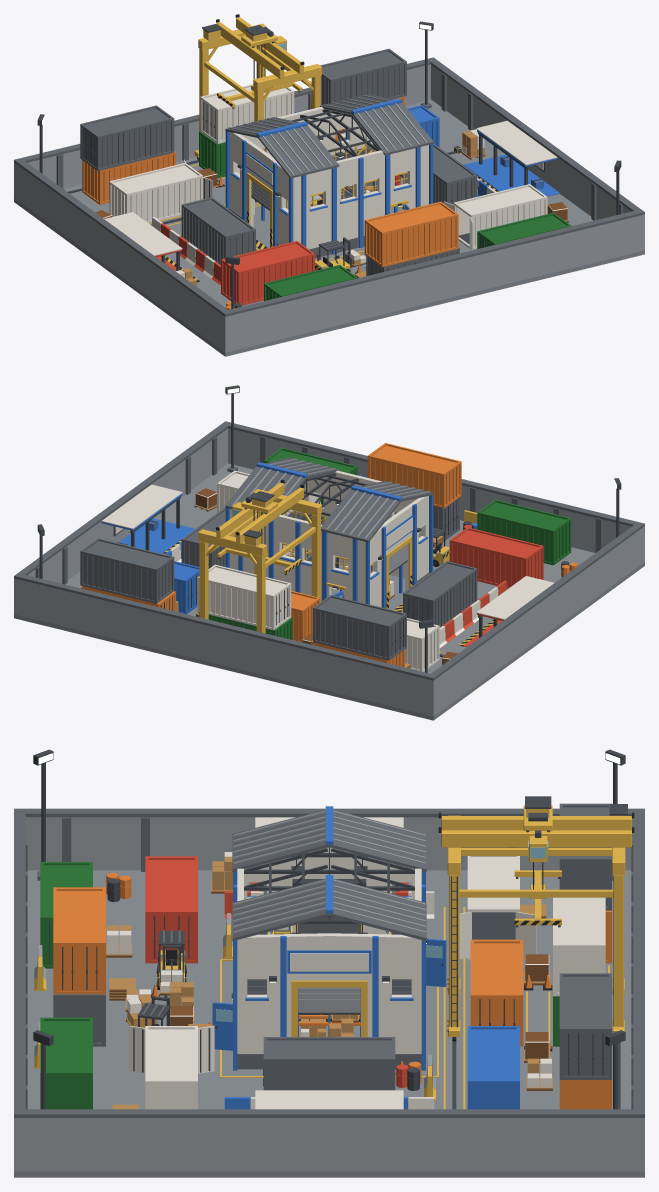
Rendered from warehouse-yard-arena.glb.
3 renders of one model, top to bottom at view 1: azimuth 30°, elevation 25°; view 2: azimuth 150°, elevation 25°; view 3: azimuth 270°, elevation 25°, orthographic. The views are drawn at different scales.
Visible parts, largest first — view 1: Perimeter_Wall, Warehouse_Shell, Warehouse_Roof, Crane_Gantry, Container_NWb, Container_S1b, Container_NW_Open, Spawn_Blue_Pad, Container_NEb, Container_SW2, Container_MidW, Container_SE_Open (+20 smaller); view 2: Perimeter_Wall, Warehouse_Shell, Warehouse_Roof, Crane_Gantry, Container_NEb, Container_NWb, Container_SW2, Container_N2b, Container_S1b, Spawn_Blue_Pad, Container_SW, Container_MidW (+20 smaller); view 3: Perimeter_Wall, Warehouse_Shell, Warehouse_Roof, Crane_Gantry, Yard_Ground_Walls_Ground, Yard_Warehouse_Ground, Yard_Crane_Props_Ground, Yard_Containers_Ground, Container_MidE, Pallet_Stacks, Container_S1b, Container_NEb (+33 smaller).
Boxes of the visible parts, box(x1,y1,x2,y2) form: Perimeter_Wall: box(14, 57, 644, 352); Warehouse_Shell: box(225, 106, 433, 258); Warehouse_Roof: box(225, 94, 433, 178); Crane_Gantry: box(194, 14, 321, 200); Container_NWb: box(80, 105, 174, 170); Container_S1b: box(364, 201, 458, 267); Container_NW_Open: box(109, 163, 202, 223); Spawn_Blue_Pad: box(463, 120, 559, 196); Container_NEb: box(320, 48, 406, 105); Container_SW2: box(221, 241, 314, 305); Container_MidW: box(181, 197, 255, 264); Container_SE_Open: box(453, 184, 547, 249); Perimeter_Wall: box(14, 421, 644, 716); Warehouse_Shell: box(225, 470, 433, 608); Warehouse_Roof: box(225, 458, 433, 542); Crane_Gantry: box(198, 479, 321, 633); Container_NEb: box(80, 538, 174, 603); Container_NWb: box(313, 595, 406, 660); Container_SW2: box(449, 527, 543, 588); Container_N2b: box(197, 564, 291, 630); Container_S1b: box(367, 443, 461, 508); Spawn_Blue_Pad: box(101, 484, 194, 554); Container_SW: box(477, 499, 571, 565); Container_MidW: box(403, 561, 477, 627); Perimeter_Wall: box(14, 808, 644, 1171); Warehouse_Shell: box(231, 847, 427, 1070); Warehouse_Roof: box(232, 806, 426, 941); Crane_Gantry: box(438, 804, 634, 1041); Yard_Ground_Walls_Ground: box(14, 870, 171, 1177); Yard_Warehouse_Ground: box(171, 870, 329, 1177); Yard_Crane_Props_Ground: box(487, 870, 644, 1177); Yard_Containers_Ground: box(329, 870, 487, 1177); Container_MidE: box(263, 1037, 395, 1090); Pallet_Stacks: box(106, 852, 552, 1109); Container_S1b: box(53, 887, 105, 994); Container_NEb: box(559, 973, 611, 1079).
Size of the model in its own units: 110 by 37.05 by 96.
